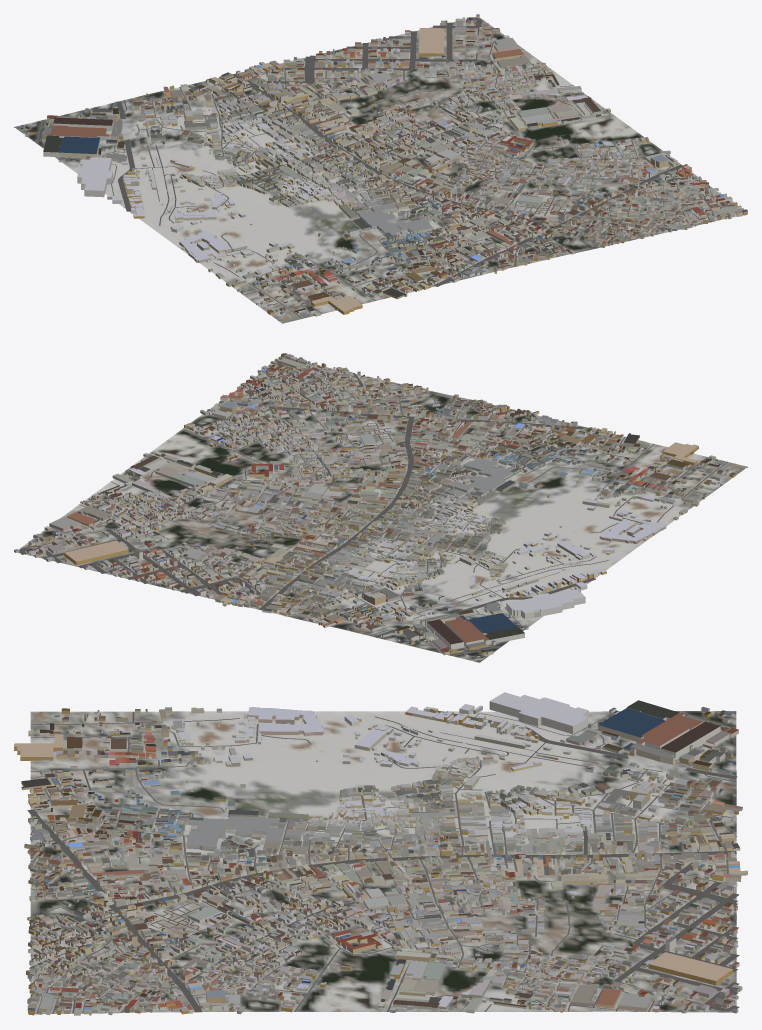
3 views of the same model, one above another, from view 1: azimuth 30°, elevation 25°; view 2: azimuth 150°, elevation 25°; view 3: azimuth 270°, elevation 25° (orthographic). The views are drawn at different scales.
Visible parts, largest first — view 1: buildings, ground, roads; view 2: buildings, ground, roads; view 3: buildings, ground, roads.
Boxes of the visible parts, <box> form: buildings: <box>20,14,747,316</box>; ground: <box>14,17,732,323</box>; roads: <box>36,17,725,318</box>; buildings: <box>14,353,736,660</box>; ground: <box>17,363,747,662</box>; roads: <box>19,365,727,655</box>; buildings: <box>14,692,747,1015</box>; ground: <box>30,711,736,1014</box>; roads: <box>27,710,739,1014</box>.
Size of the model in its own units: 1464 by 33.49 by 1456.
